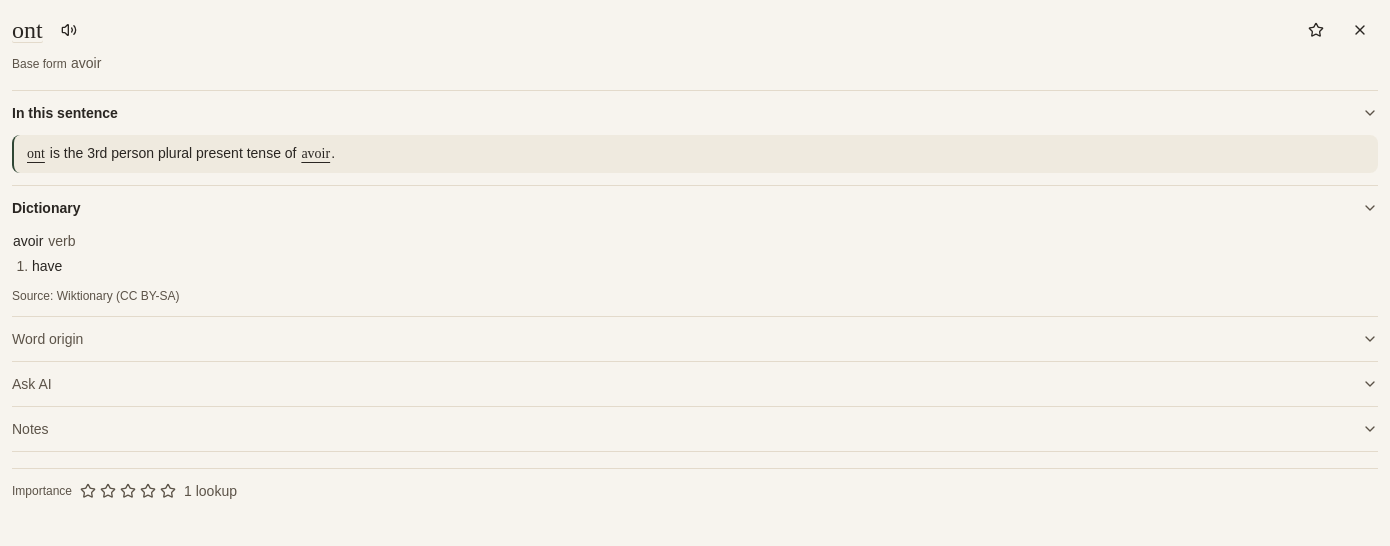
it: Task B — Study word card, selection and steps › gives avoir its own sentence context via marked explanation
Click the 2nd button "avoir" at (316, 154), box [300, 143, 331, 165]
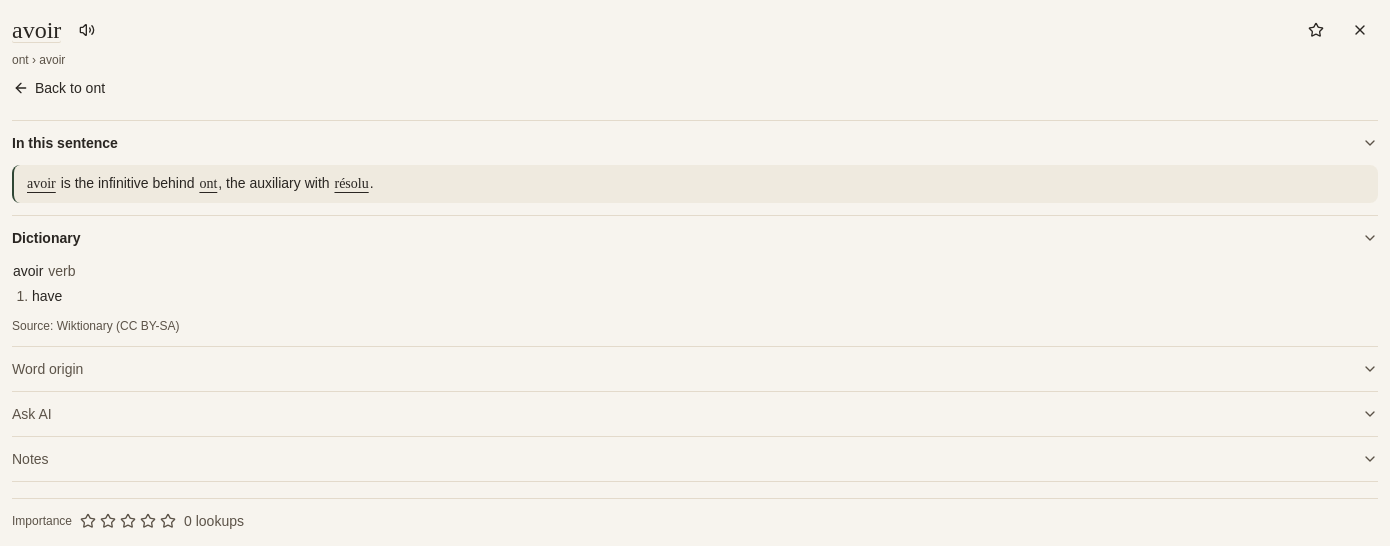
expect the element with class "wp-headword" reads "avoir": met, box [12, 17, 61, 43]
expect the element named "In this sentence" shows "is the infinitive behind": met, box [57, 175, 198, 191]
expect the button "Back to ont" is shown: met
Click the button "Back to ont" at (59, 88), box [12, 72, 106, 104]
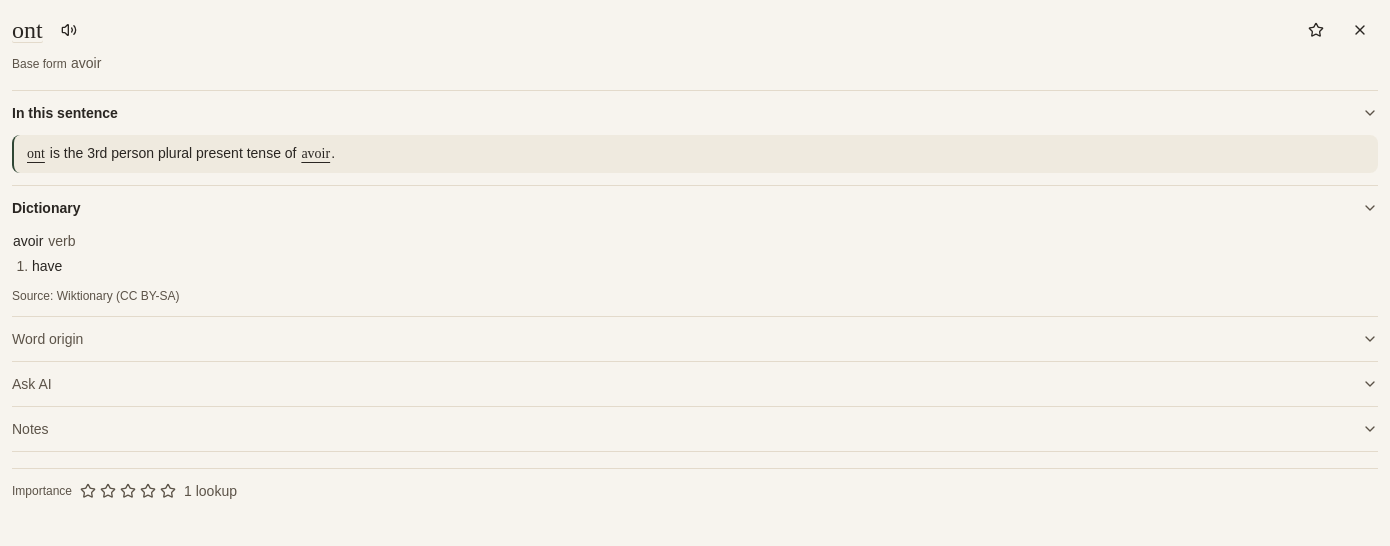
expect the element named "In this sentence" shows "3rd person plural": met, box [46, 145, 300, 161]
